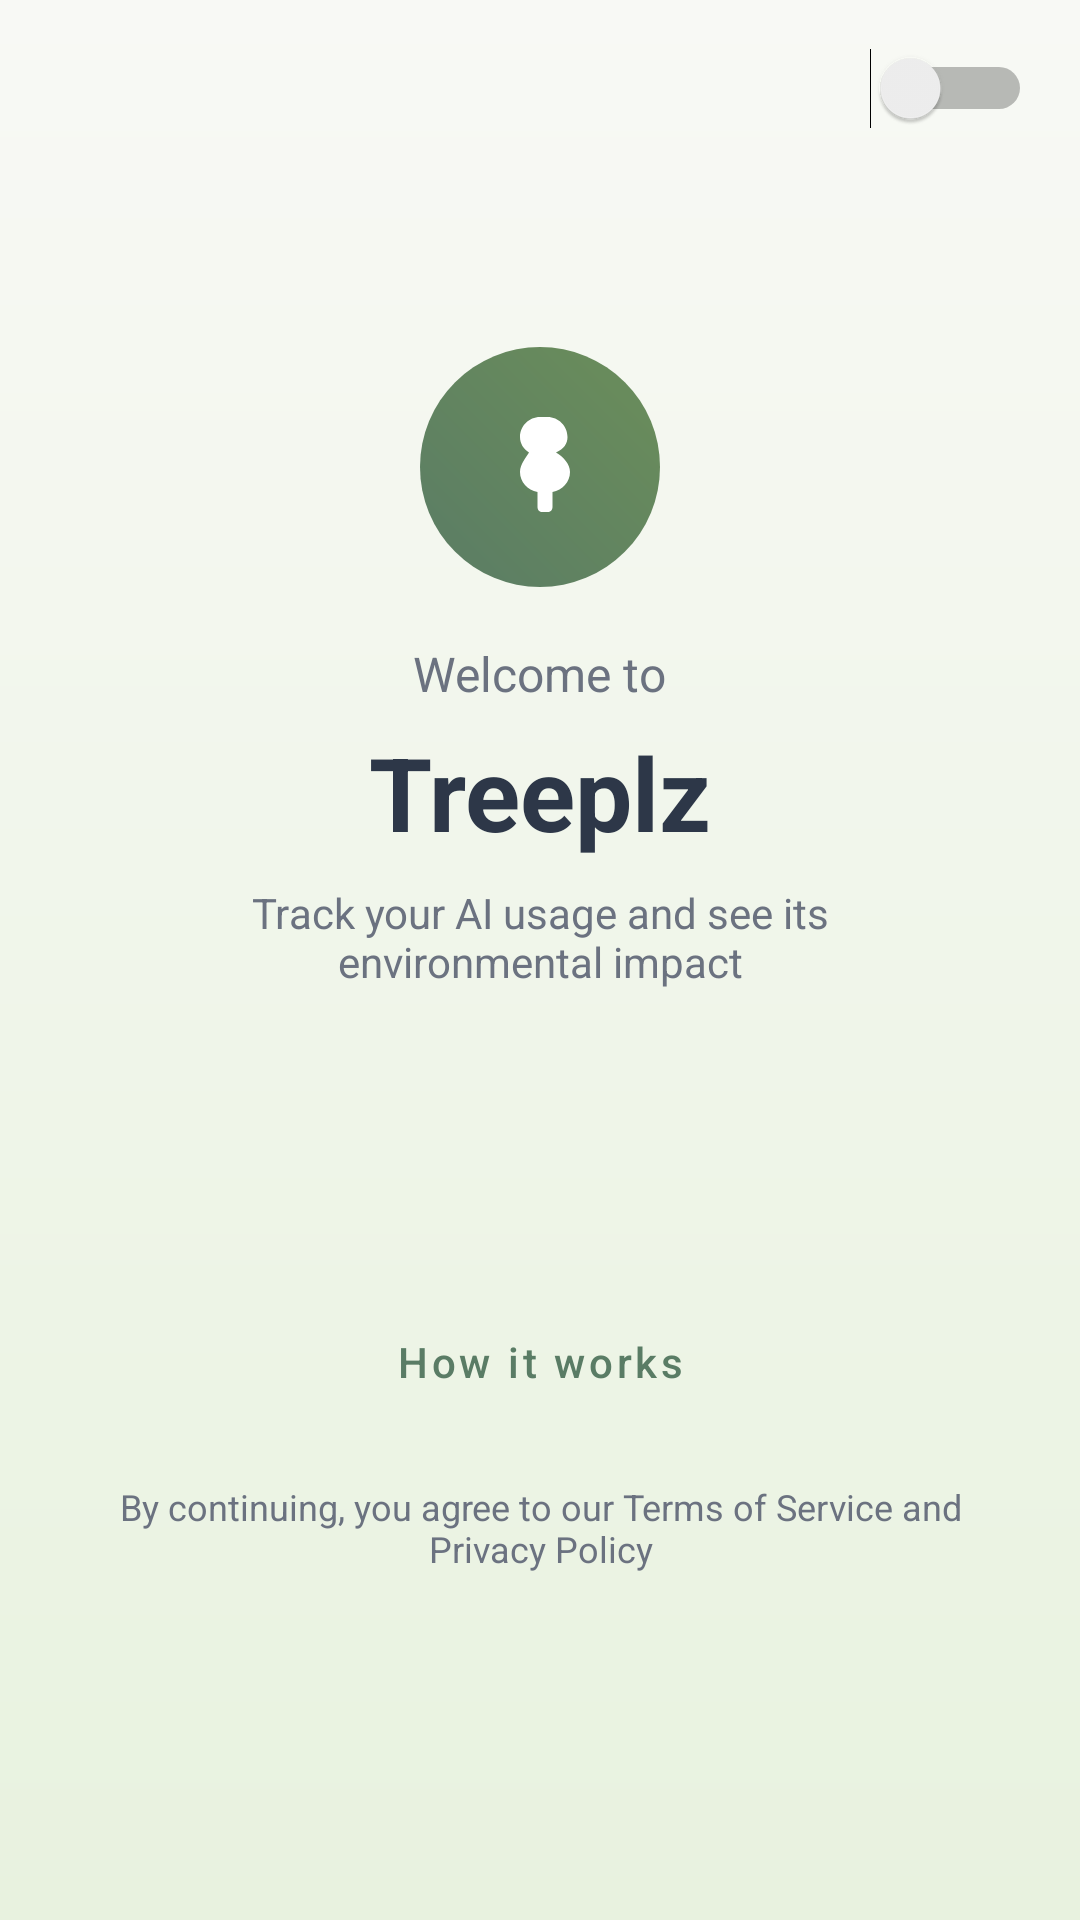

Named icons in this screenshot (1080px x 1920px) and their bounding boxes, [x1,y1,x2,y2]:
tree: [520,417,570,512]
